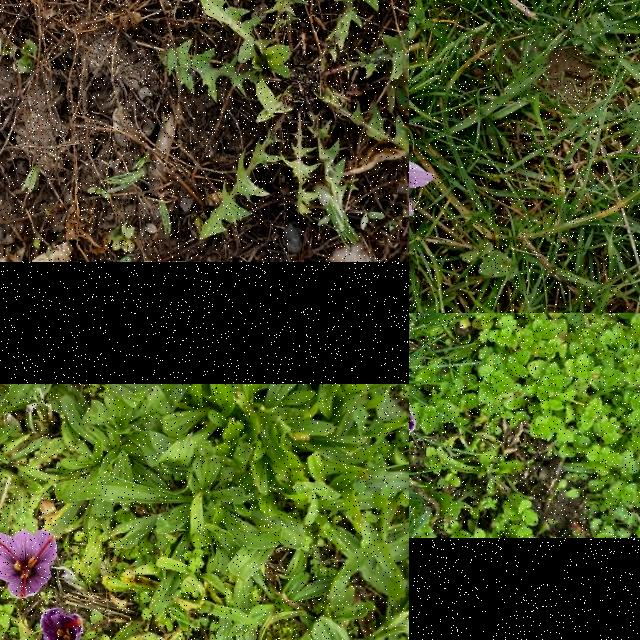flower: (0, 532, 56, 598), (409, 140, 432, 247), (41, 610, 83, 640), (409, 408, 415, 438)
